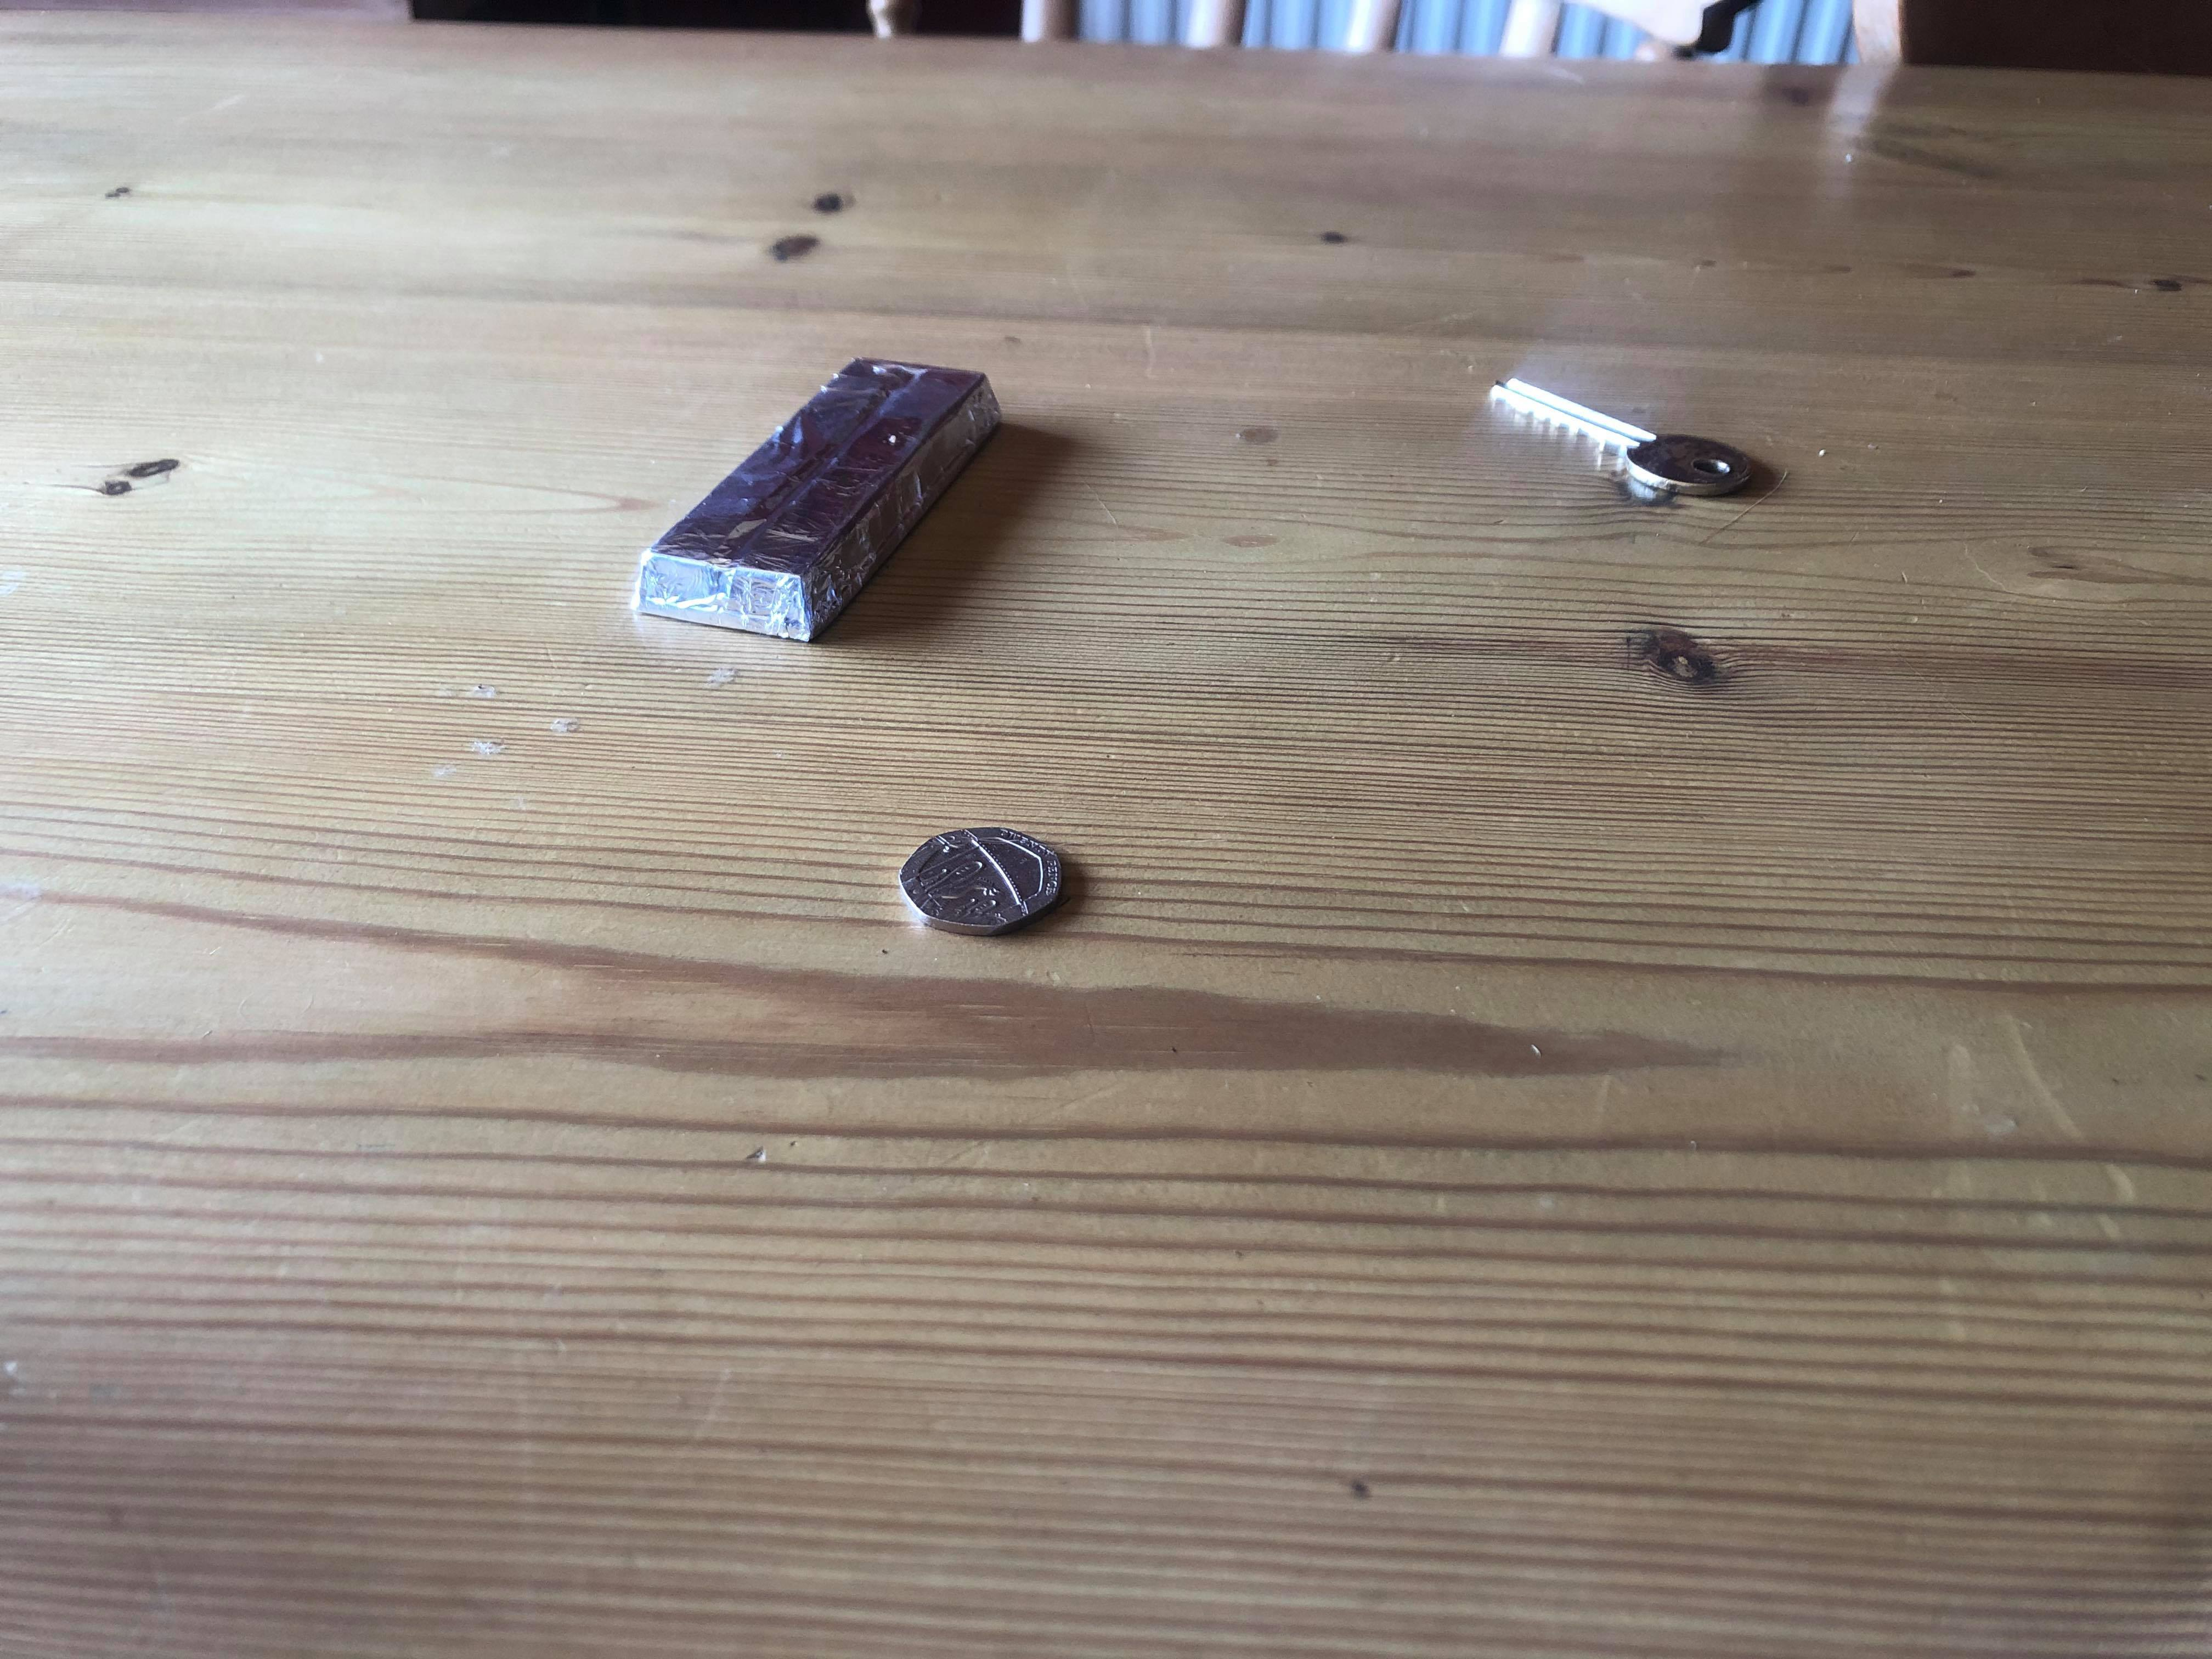Coin: (888, 821, 1069, 941)
Foil: (632, 343, 1003, 657)
Key: (1480, 364, 1752, 505)
